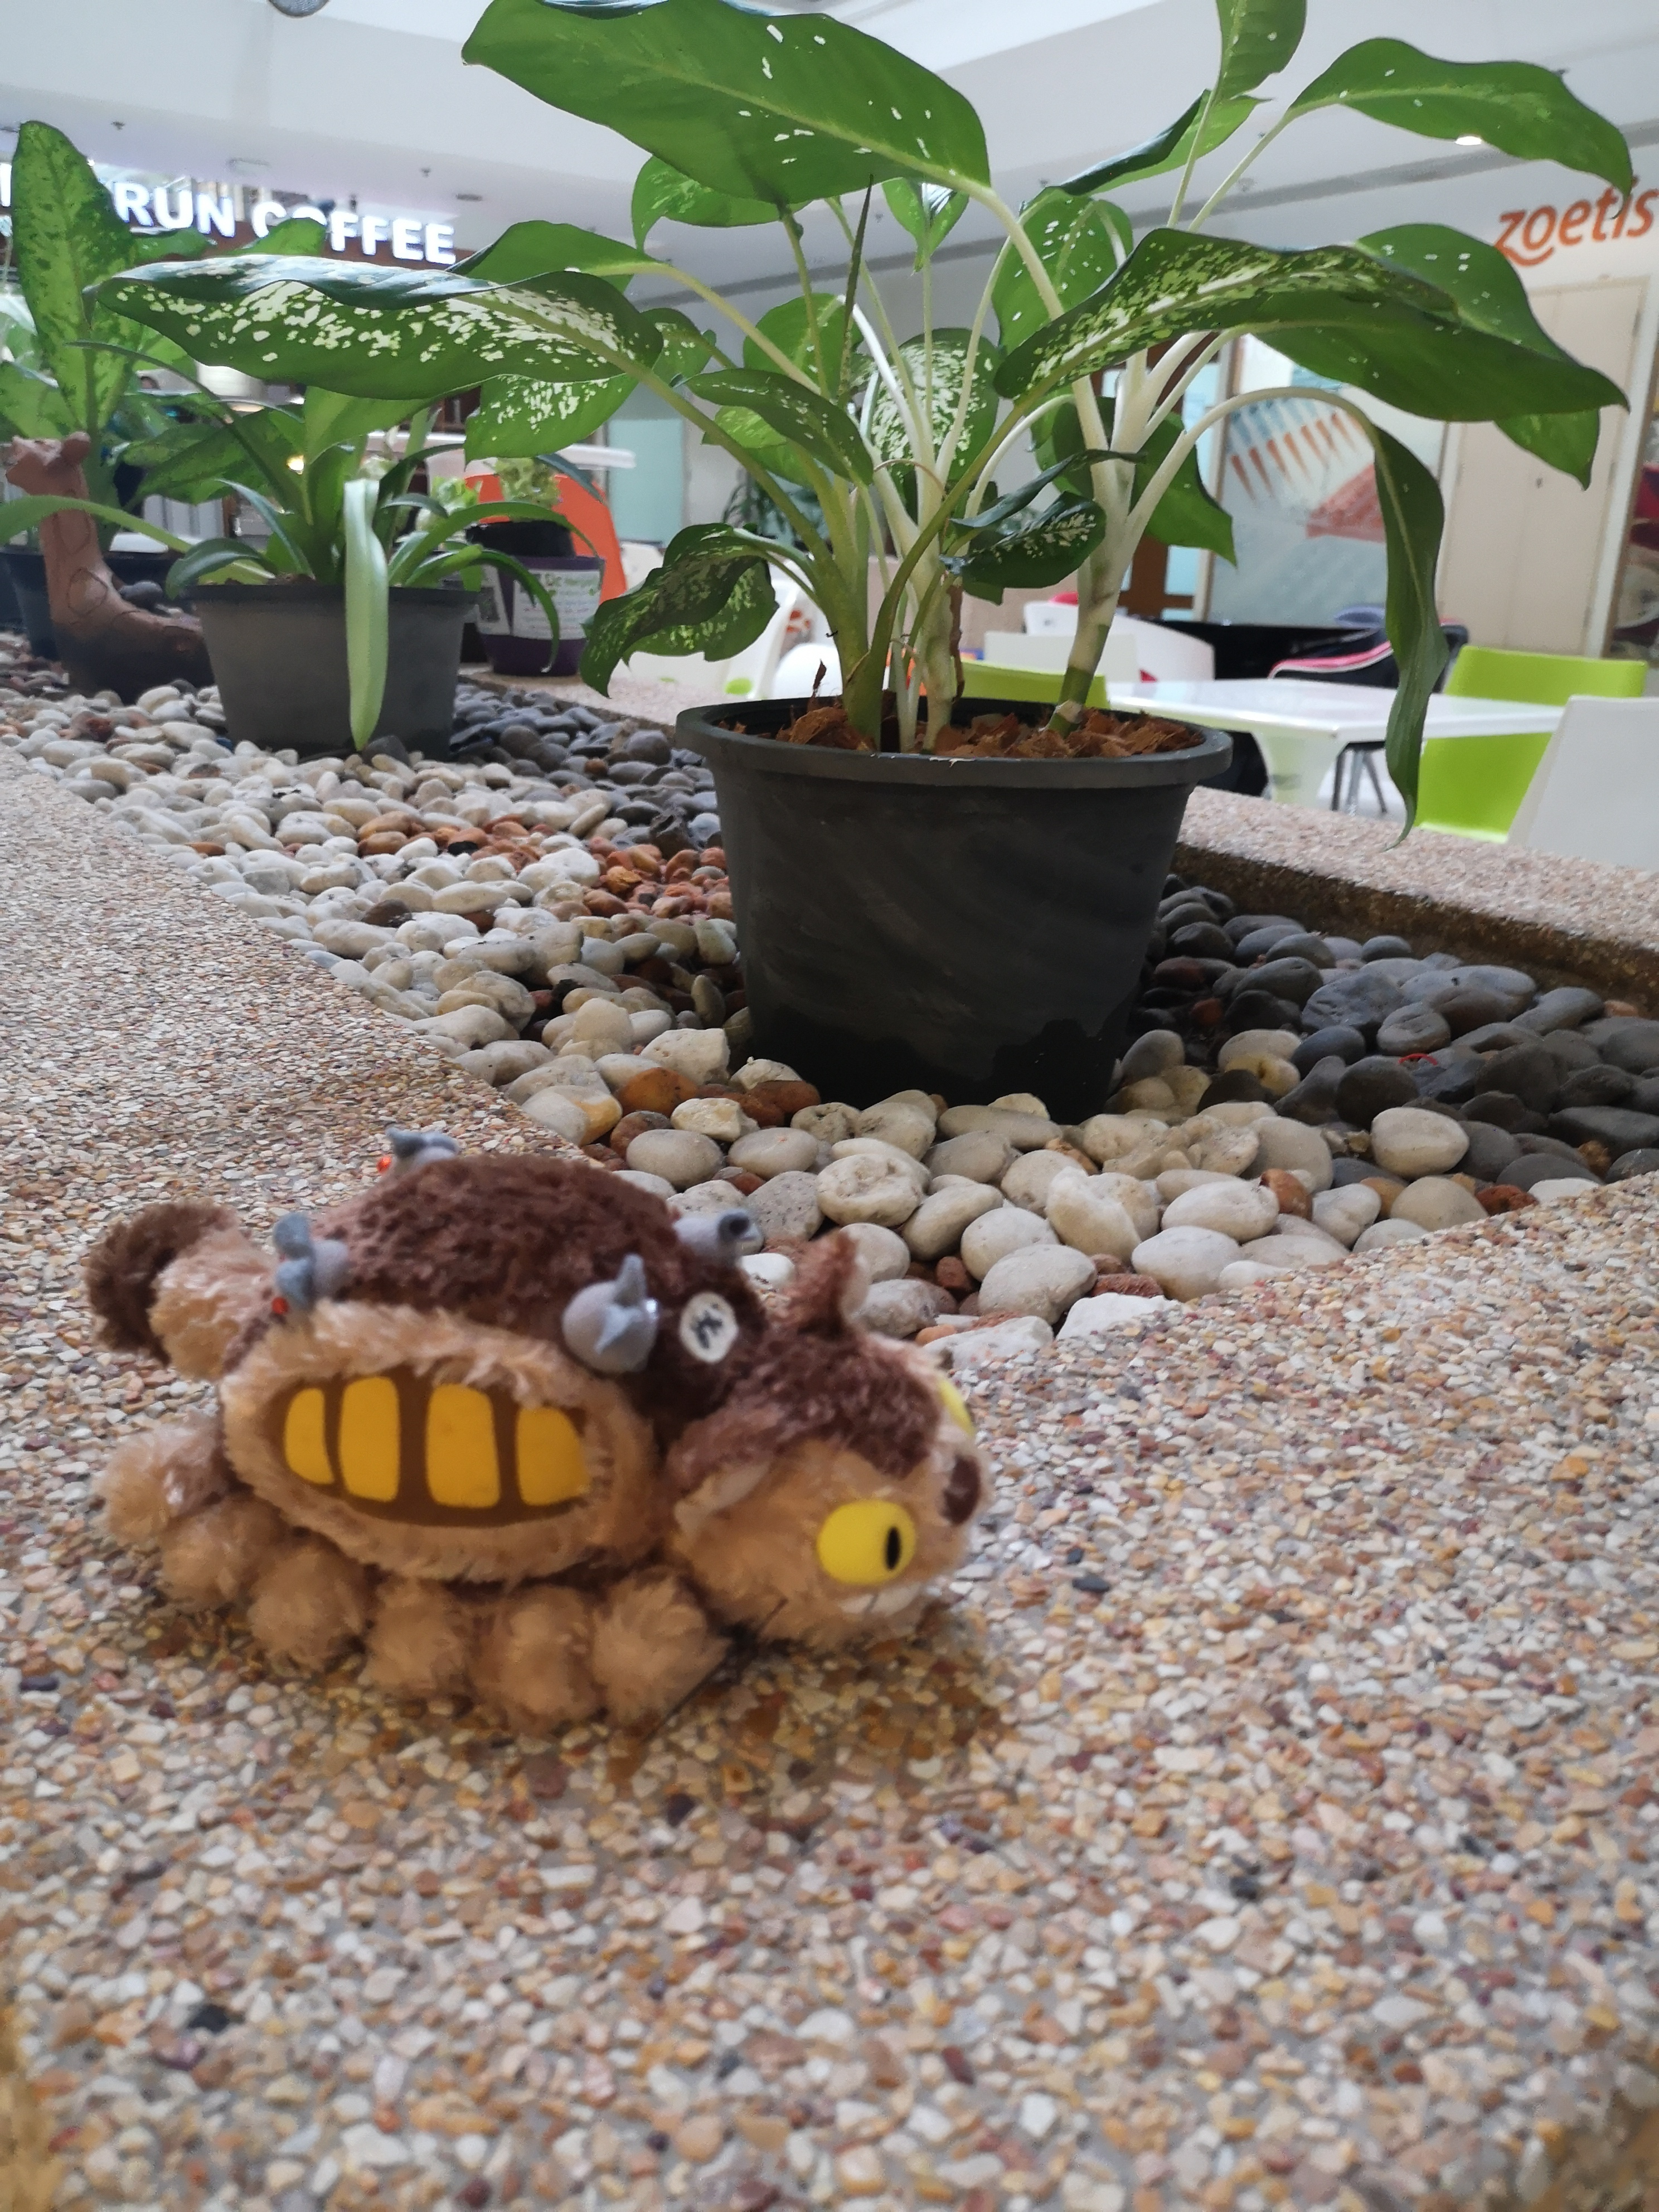nekobus: (58, 1125, 1004, 1738)
